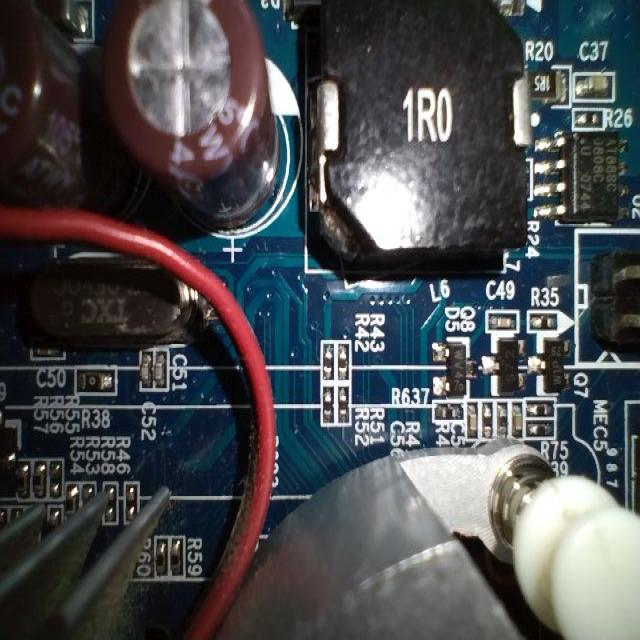capacitor: (571, 68, 614, 108), (70, 363, 118, 397), (485, 304, 521, 339)
resistor: (334, 336, 357, 385), (166, 536, 190, 582), (317, 328, 336, 386), (523, 393, 558, 423), (335, 381, 357, 427), (314, 384, 336, 428)
